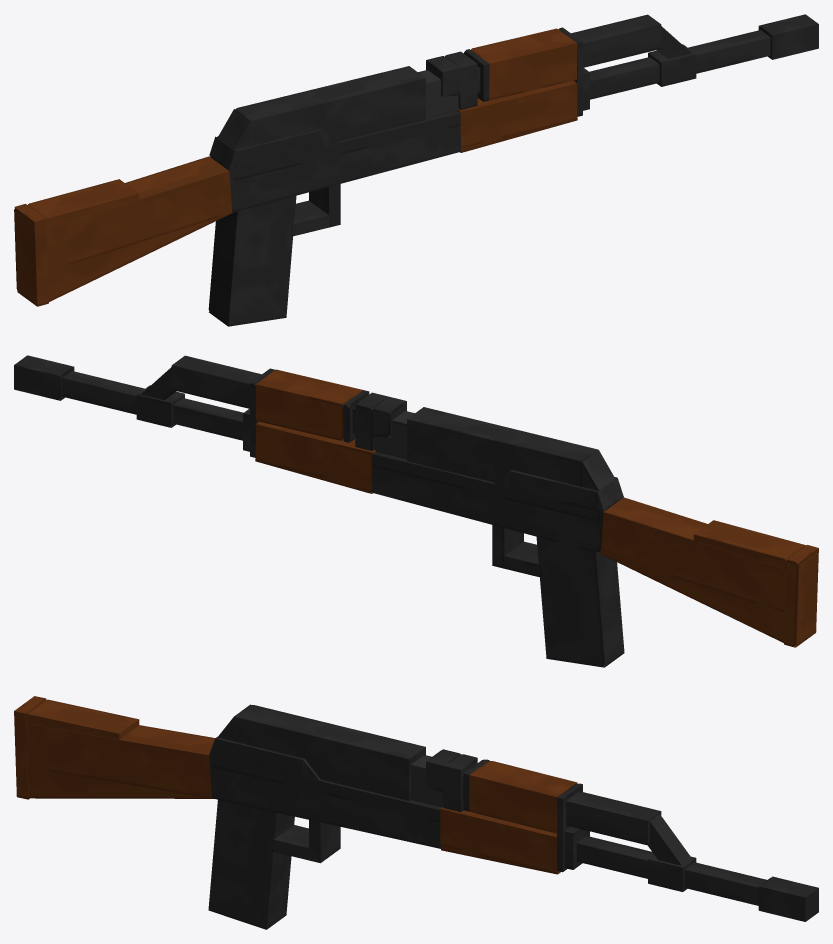
The picture shows the model from 3 angles, top to bottom: view 1: azimuth 30°, elevation 25°; view 2: azimuth 150°, elevation 25°; view 3: azimuth 330°, elevation 25°; orthographic projection.
Parts seen in each view (by area): view 1: bodyModel; view 2: bodyModel; view 3: bodyModel.
Boxes of the visible parts, box(x1,y1,x2,y2) form: bodyModel: box(14, 14, 818, 326); bodyModel: box(14, 355, 818, 667); bodyModel: box(14, 696, 818, 929).
Size of the model in its own units: 8.44 by 2.11 by 0.3813.
